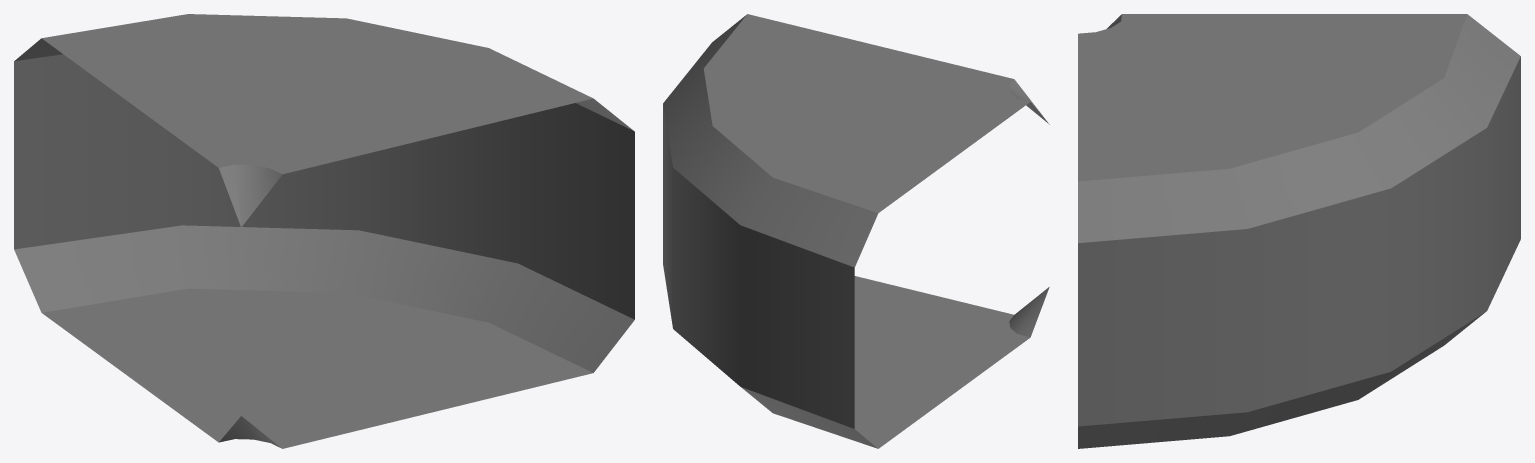
The model's file is Corner_Hallway.fbx.
3 views of the same model, side by side, from view 1: azimuth 30°, elevation 25°; view 2: azimuth 150°, elevation 25°; view 3: azimuth 270°, elevation 25° (orthographic). The views are drawn at different scales.
Visible parts, largest first — view 1: corner hallway; view 2: corner hallway; view 3: corner hallway.
Part boxes in pixels (box(x1,y1,x2,y2)): corner hallway: box(14, 14, 634, 448); corner hallway: box(663, 14, 1049, 448); corner hallway: box(1078, 14, 1520, 448).
Bounding box in the file's own units: 600 × 400 × 600.
